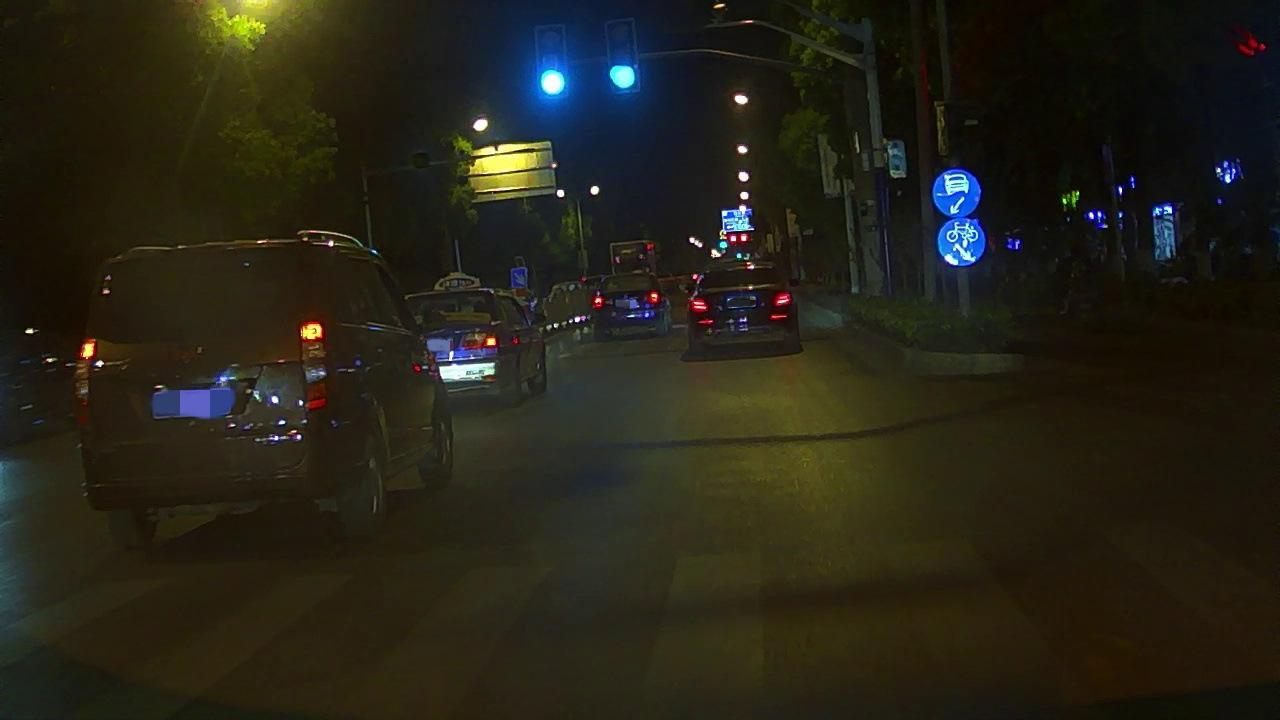traffic_light: (608, 24, 637, 92), (537, 29, 566, 96)
